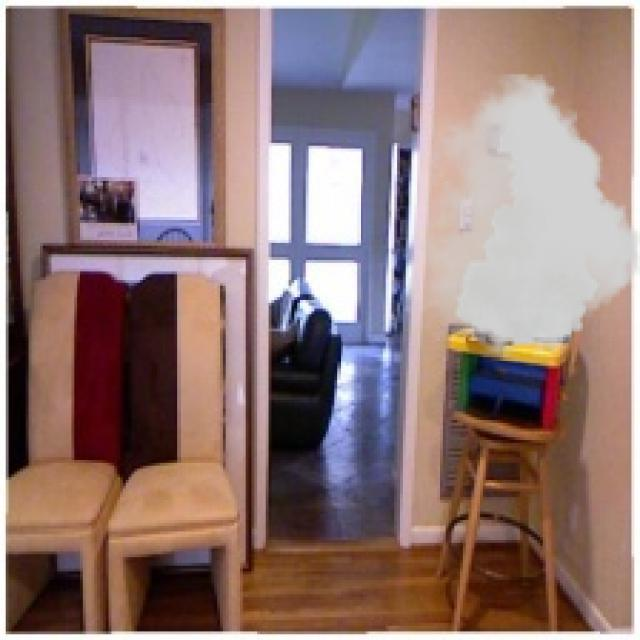smoke: (423, 74, 637, 360)
